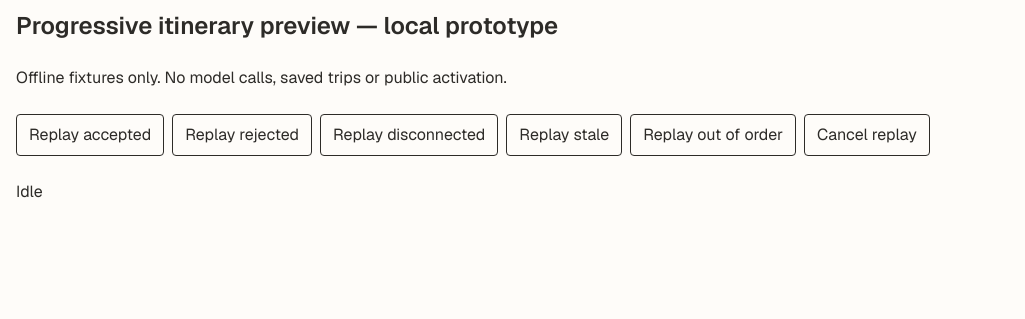
disconnected stream withdraws every preview day without promoting a plan
Click the button "Replay disconnected".
click(409, 135)  # box [320,114,498,156]
Wait 6000 ms
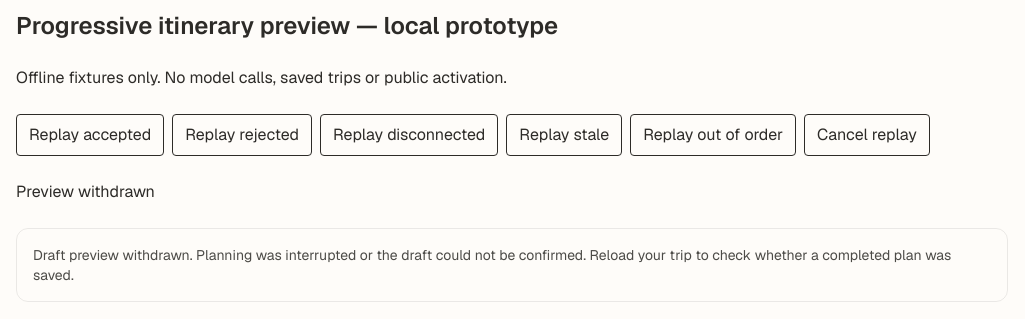
Check: the text "Draft preview withdrawn" is shown, box [33,246,951,284]
